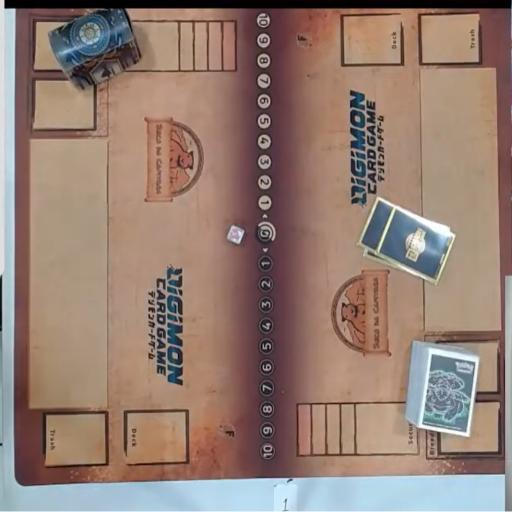card: (371, 198, 460, 280)
